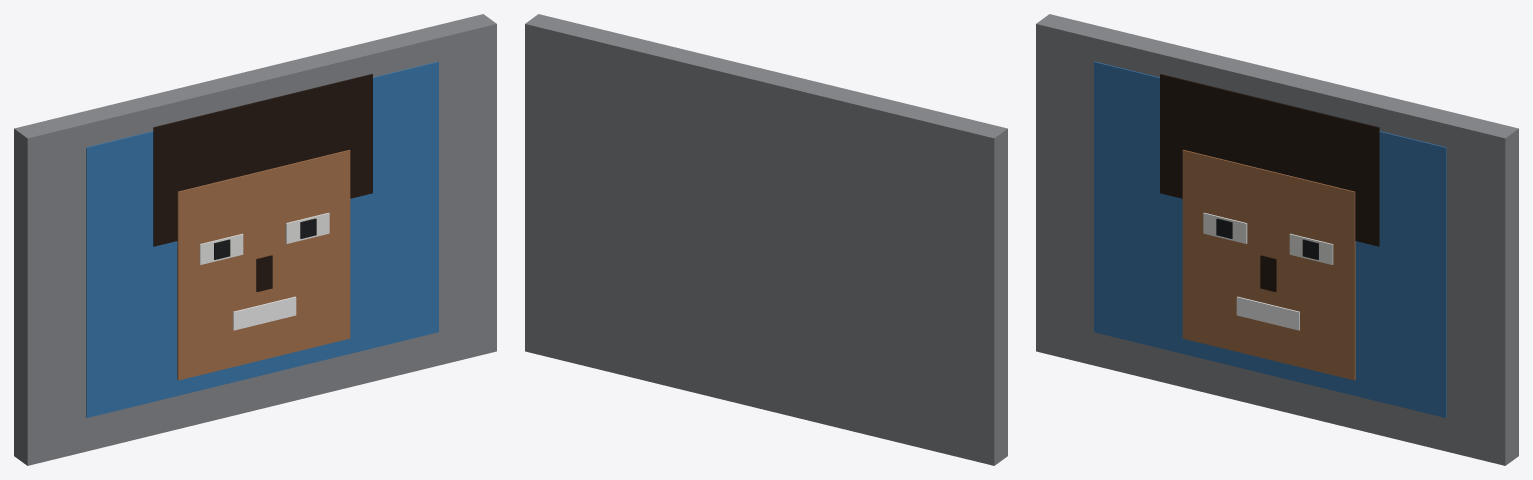
File: sn_facemural.glb
3 renders of one model, left to right at view 1: azimuth 30°, elevation 25°; view 2: azimuth 150°, elevation 25°; view 3: azimuth 330°, elevation 25°, orthographic.
Parts seen in each view (by area): view 1: sn_facemural_lod0; view 2: sn_facemural_lod0; view 3: sn_facemural_lod0.
Boxes of the visible parts, x1=… form: sn_facemural_lod0: x1=14, y1=14, x2=496, y2=465; sn_facemural_lod0: x1=525, y1=14, x2=1007, y2=465; sn_facemural_lod0: x1=1036, y1=14, x2=1518, y2=465.
Size of what is drawn, in the model's own units: 12 by 8 by 0.75.
